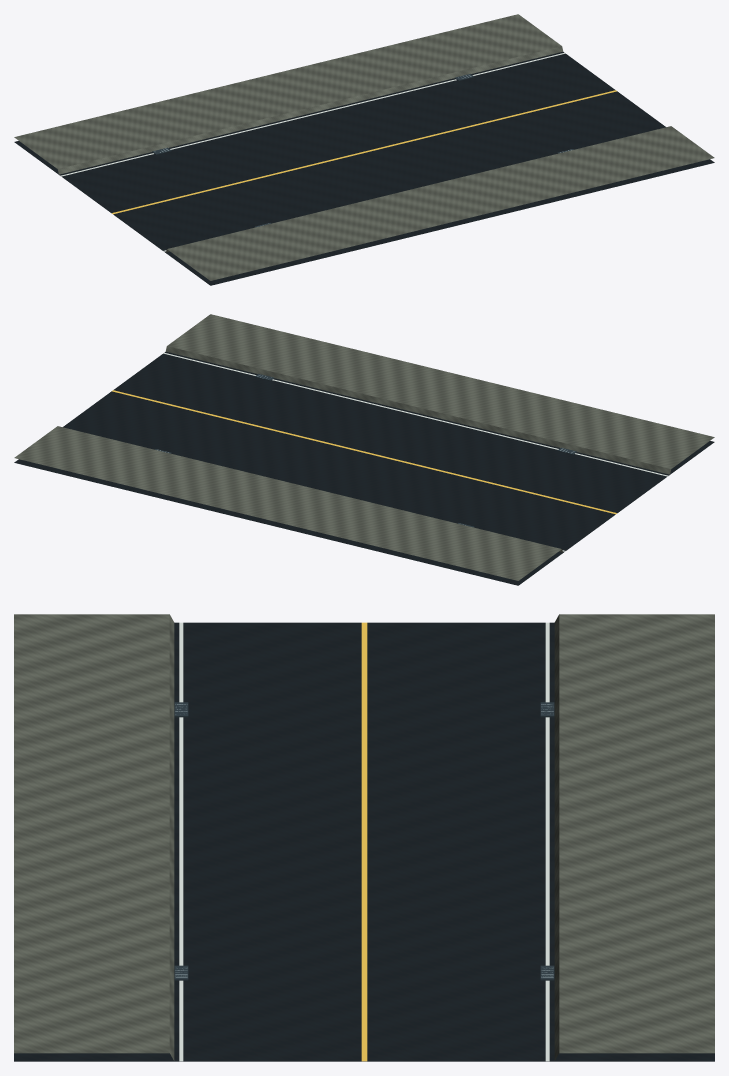
Rendered from road_local_2lane_16m_LOD0.glb.
3 views of the same model, one above another, from view 1: azimuth 30°, elevation 25°; view 2: azimuth 150°, elevation 25°; view 3: azimuth 270°, elevation 25° (orthographic). The views are drawn at different scales.
Parts seen in each view (by area): view 1: road_local_2lane_16m__surface, road_local_2lane_16m__markings; view 2: road_local_2lane_16m__surface, road_local_2lane_16m__markings; view 3: road_local_2lane_16m__surface, road_local_2lane_16m__markings, road_local_2lane_16m__drains.
Boxes of the visible parts, x1,y1,x2,y2 form: road_local_2lane_16m__surface: [14, 14, 714, 285]; road_local_2lane_16m__markings: [60, 52, 616, 251]; road_local_2lane_16m__surface: [14, 314, 714, 585]; road_local_2lane_16m__markings: [112, 352, 668, 551]; road_local_2lane_16m__surface: [14, 614, 714, 1061]; road_local_2lane_16m__markings: [179, 622, 549, 1061]; road_local_2lane_16m__drains: [174, 702, 554, 980].
Size of the model in its own units: 16 by 0.145 by 10.8.
7 materials, 3 textured.
